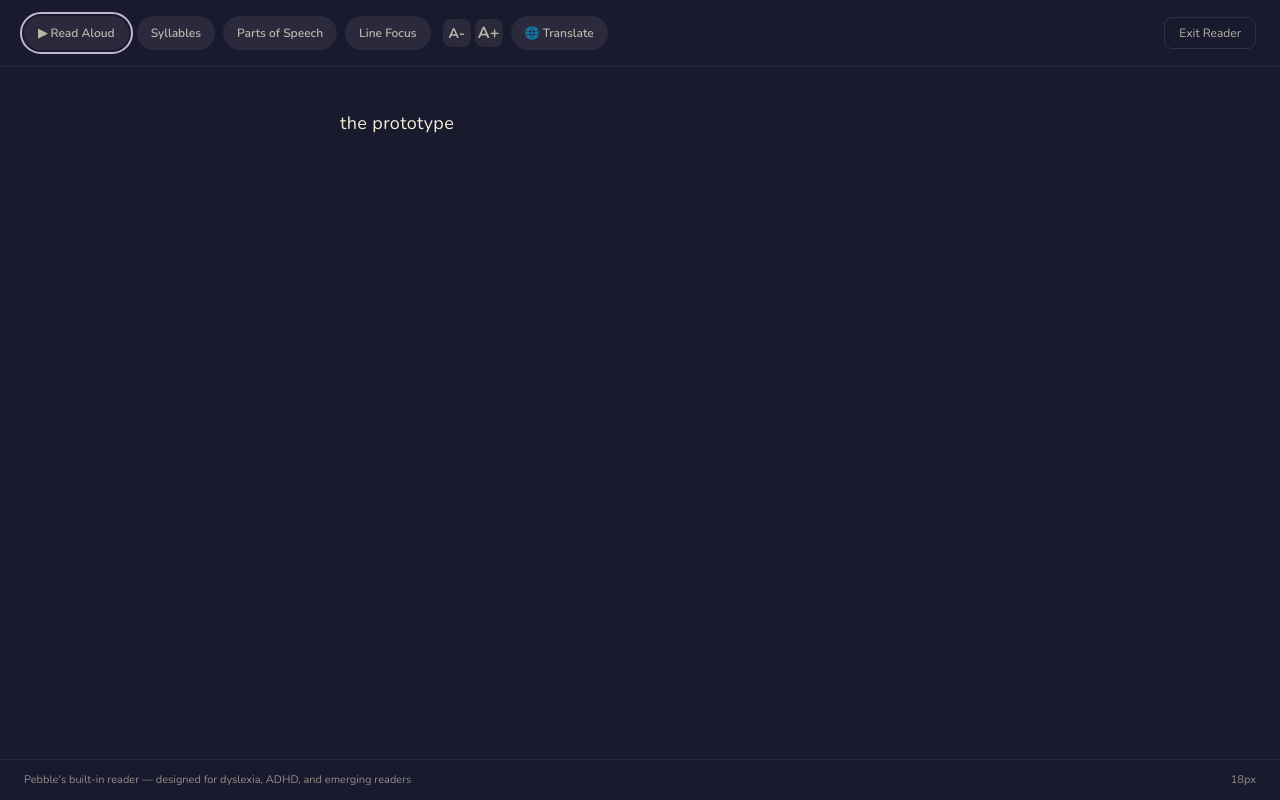
Test: ImmersiveReader › built-in reader › splits words into syllables
Click the button "Syllables" at (176, 33), box x1=137 y1=16 x2=215 y2=50
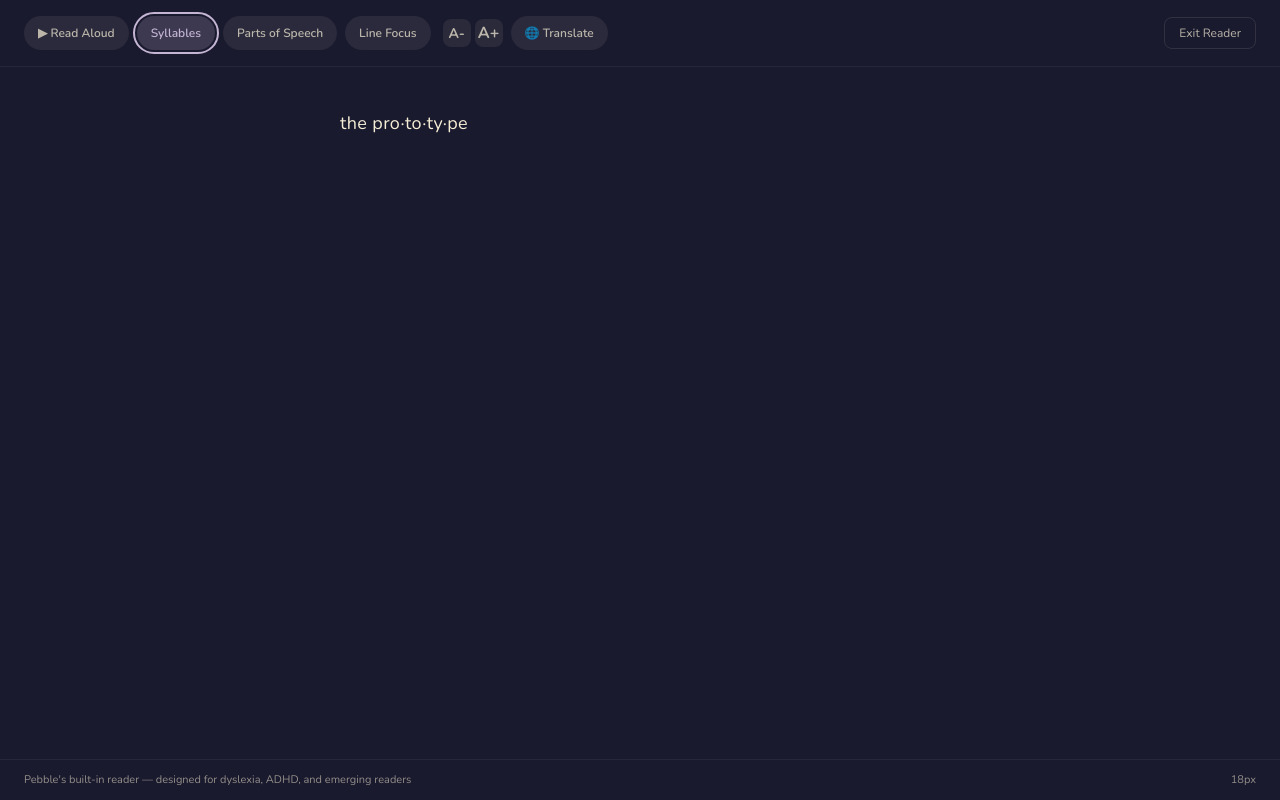
Expected: the element with test id "reader-text" reads "the pro·to·ty·pe", x1=340 y1=111 x2=468 y2=135
